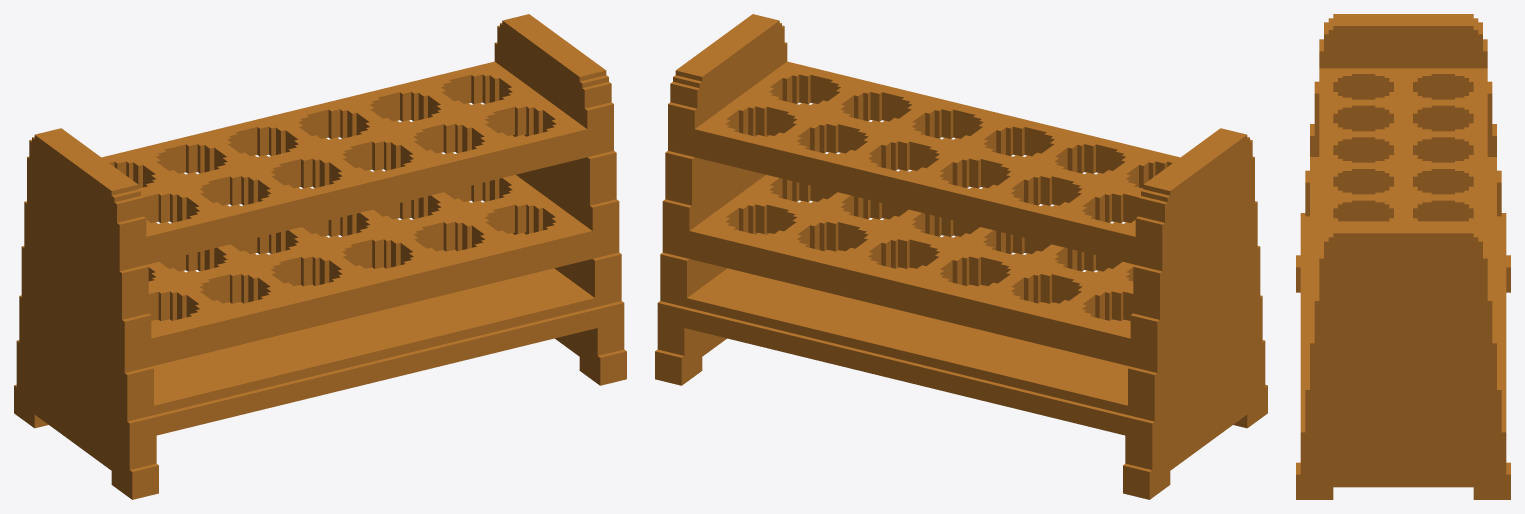
The model's file is Test Tube Rack3.fbx.
The picture shows the model from 3 angles, left to right: view 1: azimuth 30°, elevation 25°; view 2: azimuth 150°, elevation 25°; view 3: azimuth 270°, elevation 25°; orthographic projection. The views are drawn at different scales.
Parts seen in each view (by area): view 1: Test Tube Rack3; view 2: Test Tube Rack3; view 3: Test Tube Rack3.
Boxes of the visible parts, x1,y1,x2,y2 form: Test Tube Rack3: (14, 14, 626, 499); Test Tube Rack3: (655, 14, 1267, 499); Test Tube Rack3: (1296, 14, 1510, 499).
Size of the model in its own units: 11.1 by 6.3 by 4.6.
